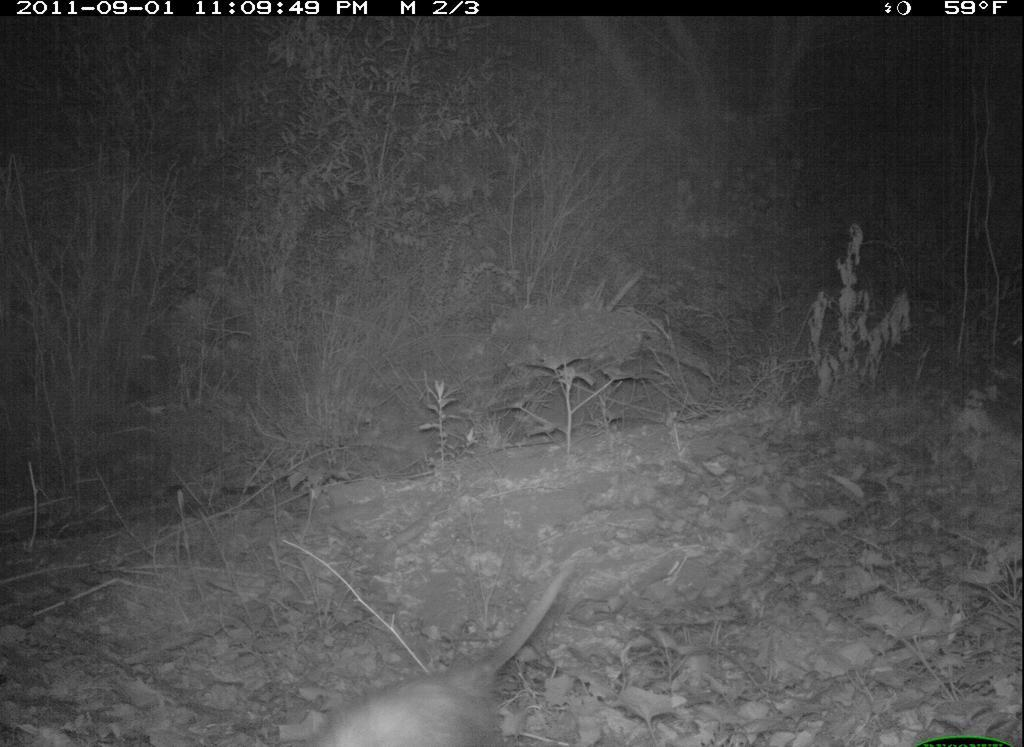opossum: (295, 555, 587, 747)
